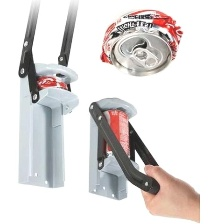can: (96, 8, 186, 79), (101, 107, 132, 161), (34, 73, 72, 92)
